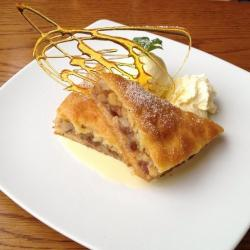apple_pie: (48, 75, 230, 186)
icecream: (162, 71, 226, 124)
